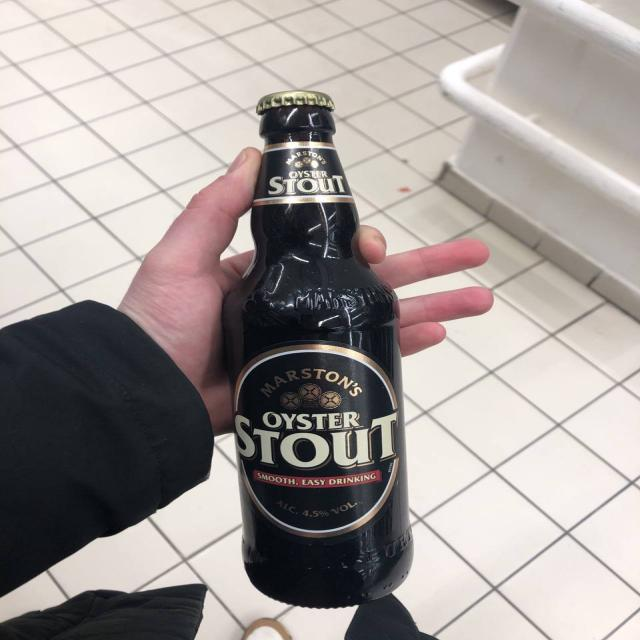Glass: (222, 89, 414, 609)
